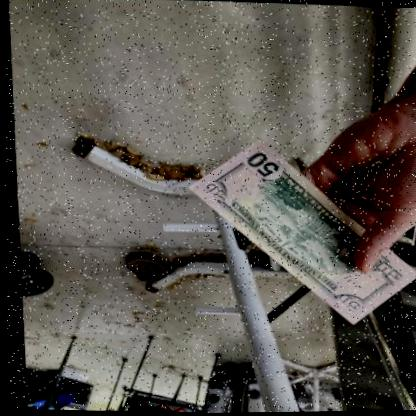fifty-back: (184, 137, 415, 325)
